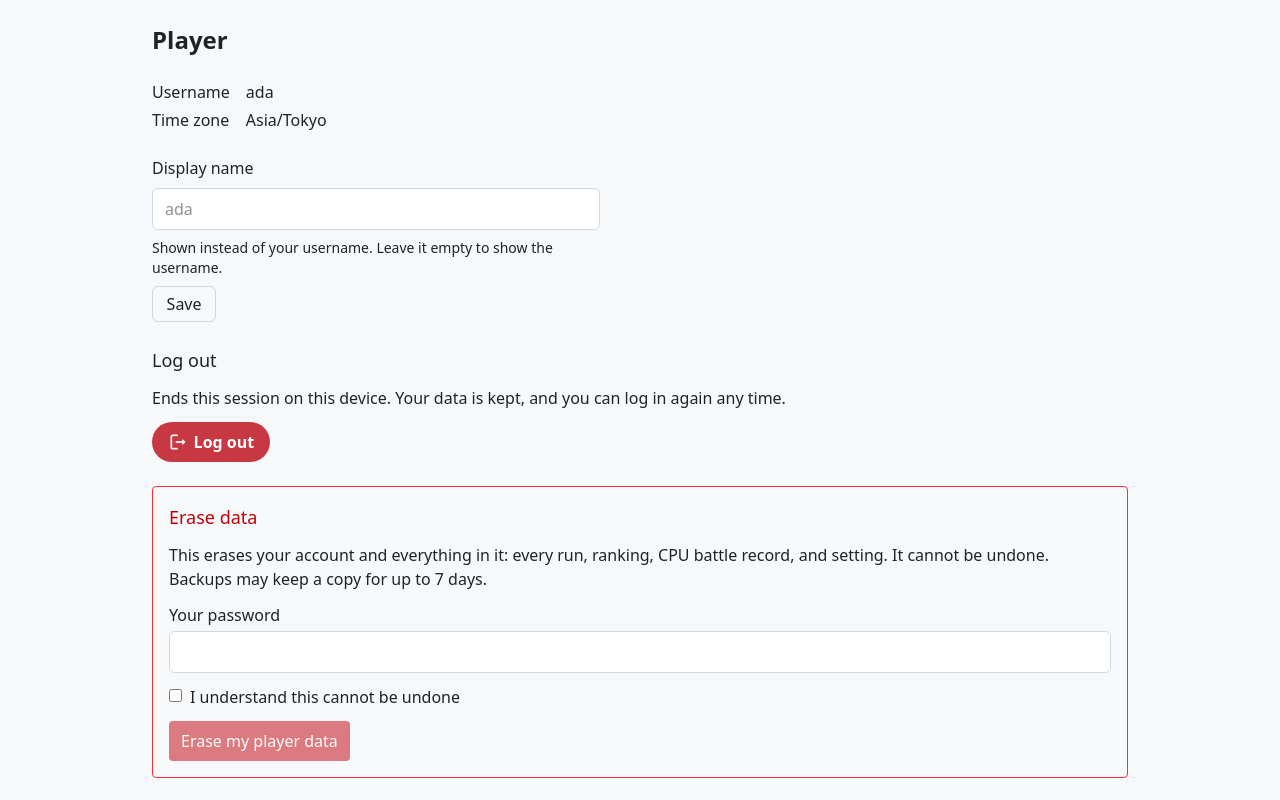
Test case: the account screen › shows the refusal of a wrong password, stays signed in, and deletes nothing
The image size is (1280, 800).
Type "not it" into the password field labelled "Your password".
click(640, 652); type("not it")  # box [169,631,1111,673]
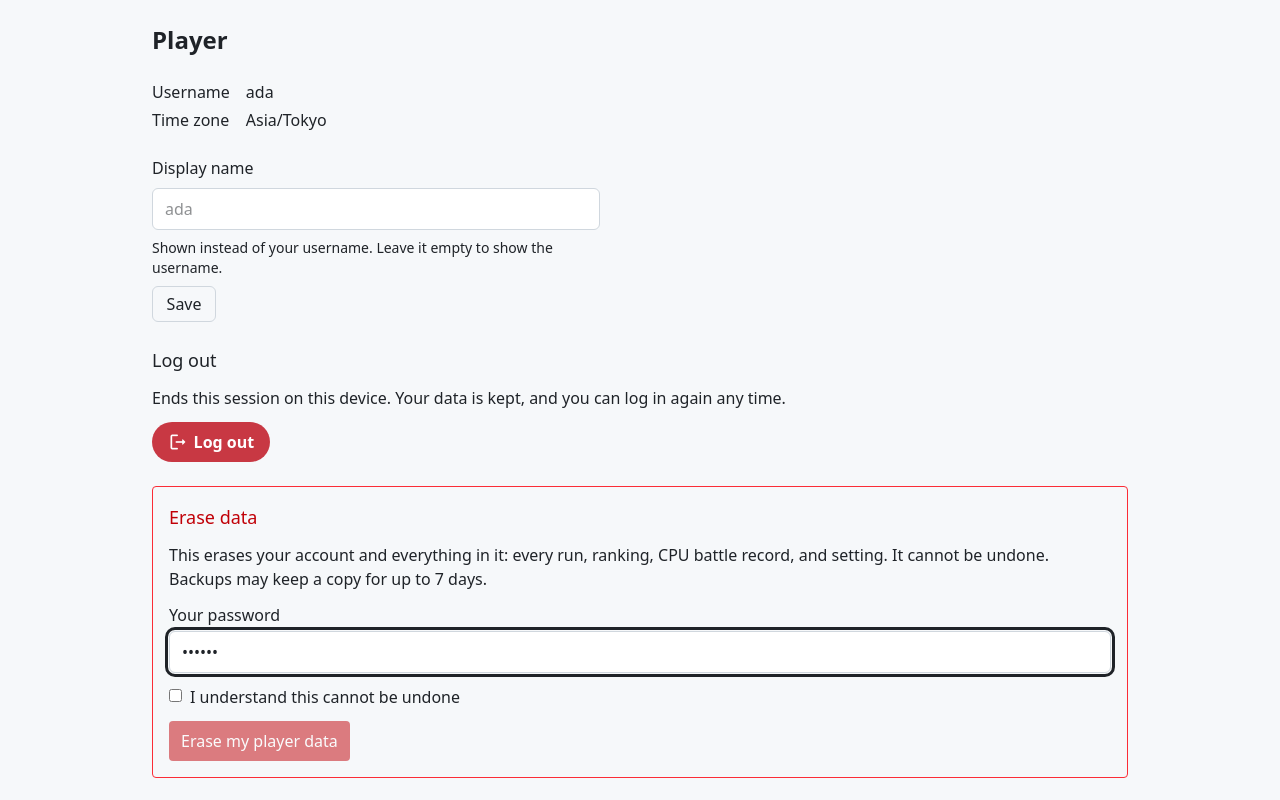
Click the checkbox labelled "I understand this cannot be undone".
click(176, 695)  # box [169,689,182,702]
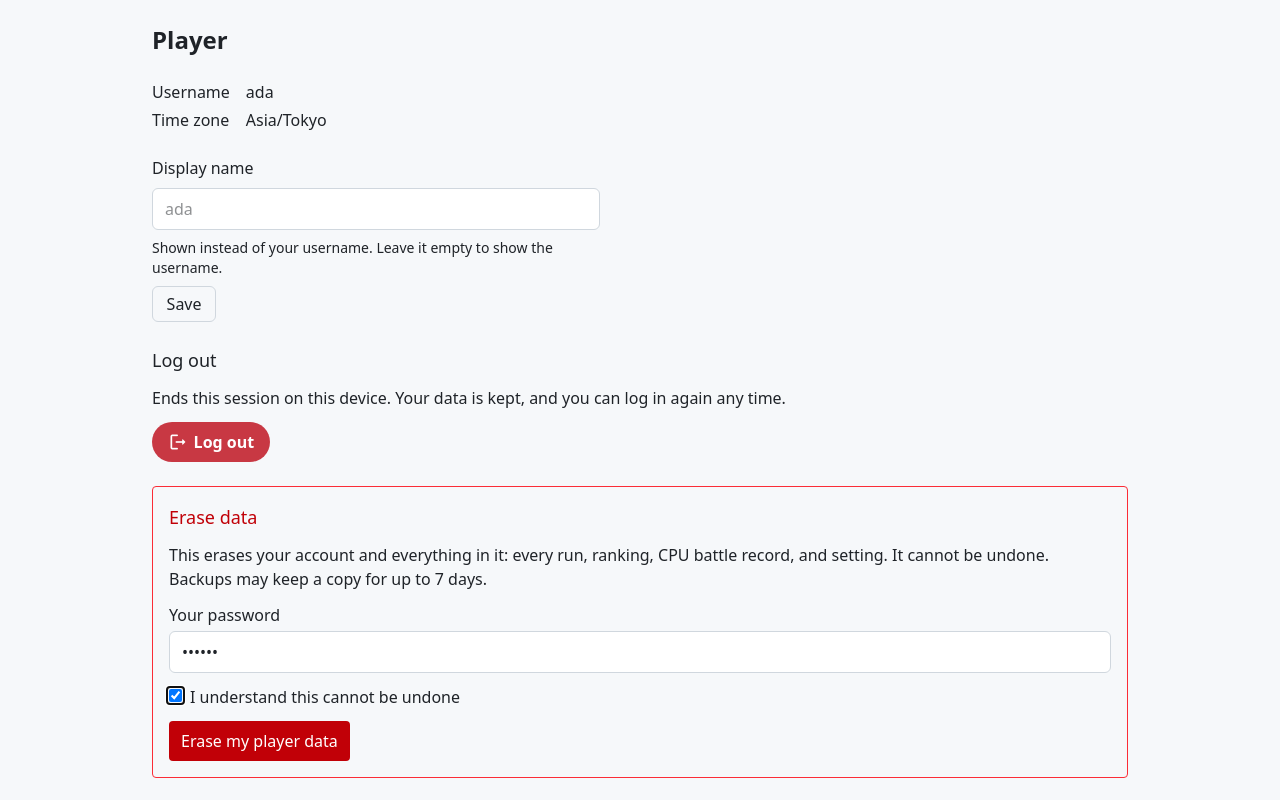
Click the button "Erase my player data".
click(259, 741)  # box [169,721,350,761]
(page scrolled)
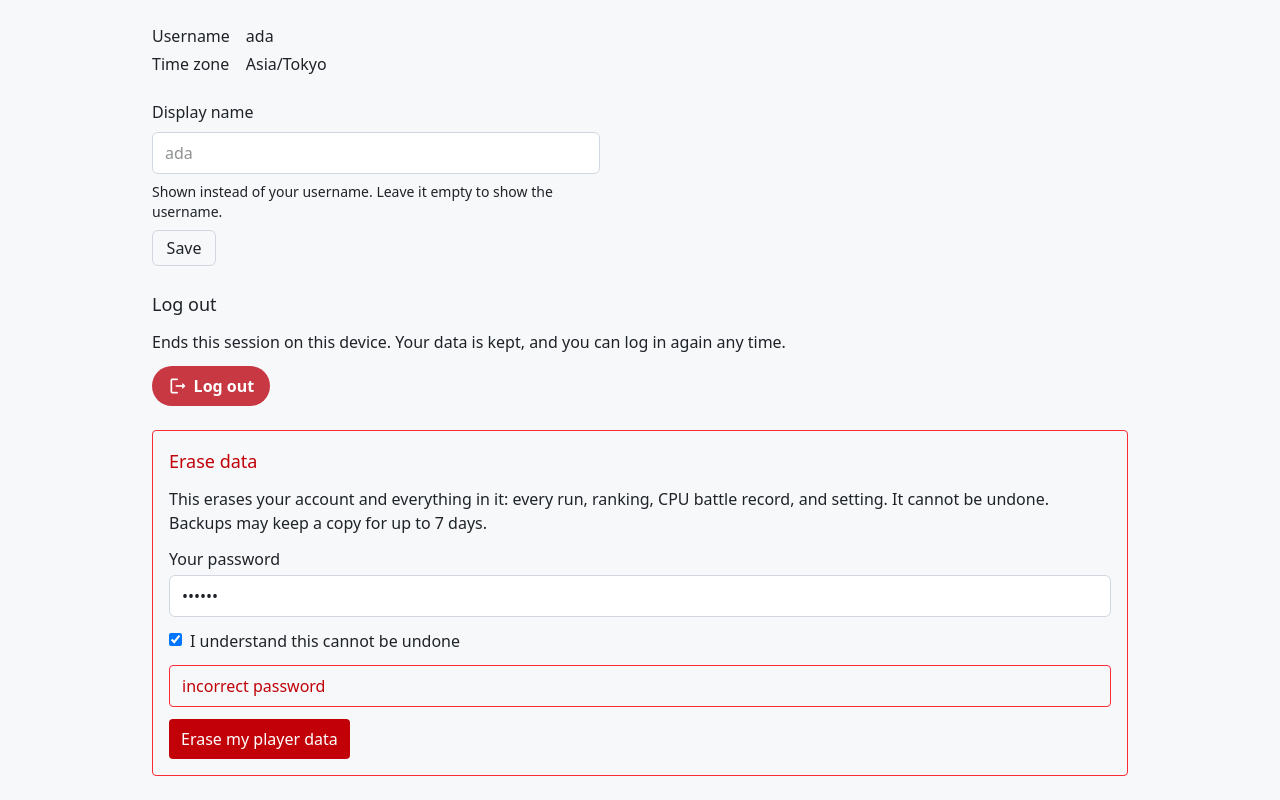
Now the button "Erase my player data" is enabled, box [169,719,350,759]
Now the message reads "incorrect password", box [182,675,326,697]
